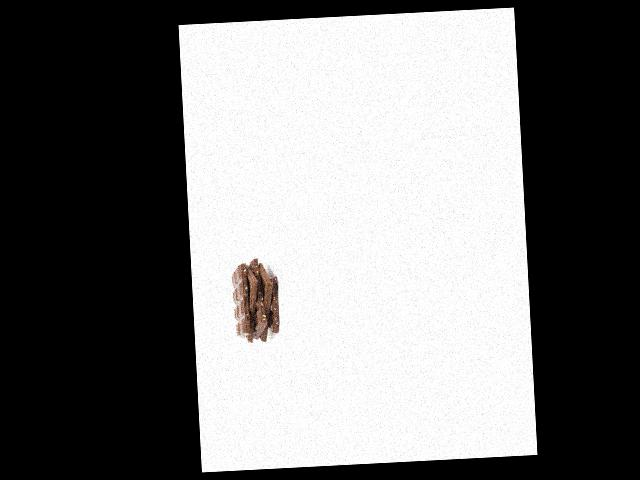chocolate: (250, 262, 285, 340)
